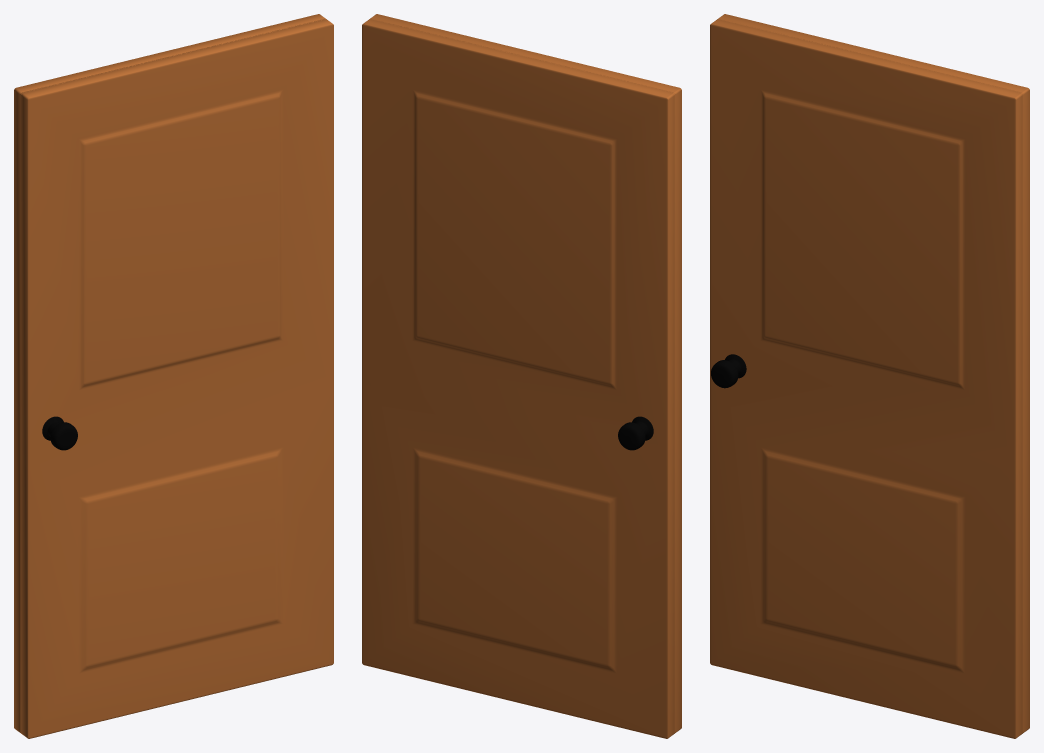
The model's file is door.gltf.
3 views of the same model, side by side, from view 1: azimuth 30°, elevation 25°; view 2: azimuth 150°, elevation 25°; view 3: azimuth 330°, elevation 25° (orthographic).
Parts seen in each view (by area): view 1: Cylinder; view 2: Cylinder; view 3: Cylinder.
Boxes of the visible parts, x1,y1,x2,y2 form: Cylinder: [14, 14, 333, 738]; Cylinder: [362, 14, 681, 738]; Cylinder: [710, 14, 1029, 738].
Bounding box in the file's own units: 1 × 2 × 0.2417.
